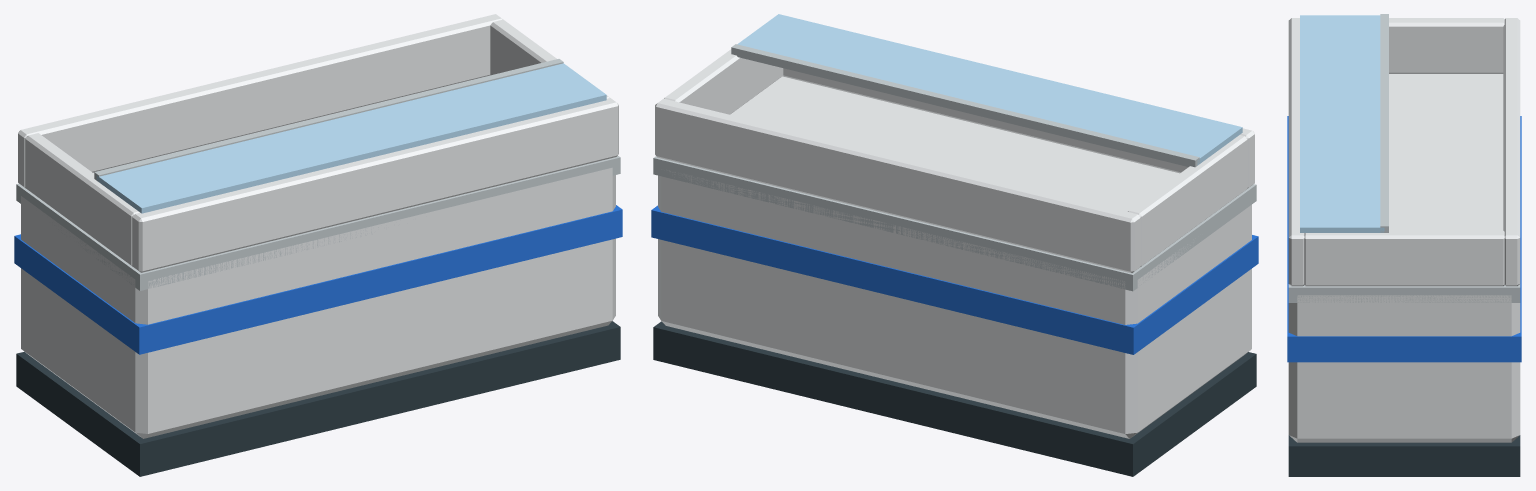
File: Sogutucu_Ada.fbx
3 renders of one model, left to right at view 1: azimuth 30°, elevation 25°; view 2: azimuth 150°, elevation 25°; view 3: azimuth 270°, elevation 25°, orthographic. The views are drawn at different scales.
Parts seen in each view (by area): view 1: Sogutucu_Ada; view 2: Sogutucu_Ada; view 3: Sogutucu_Ada.
Boxes of the visible parts, bbox=[...] form: Sogutucu_Ada: bbox=[14, 14, 622, 476]; Sogutucu_Ada: bbox=[651, 14, 1258, 476]; Sogutucu_Ada: bbox=[1287, 14, 1521, 476].
Bounding box in the file's own units: 185 × 96.5 × 83.
